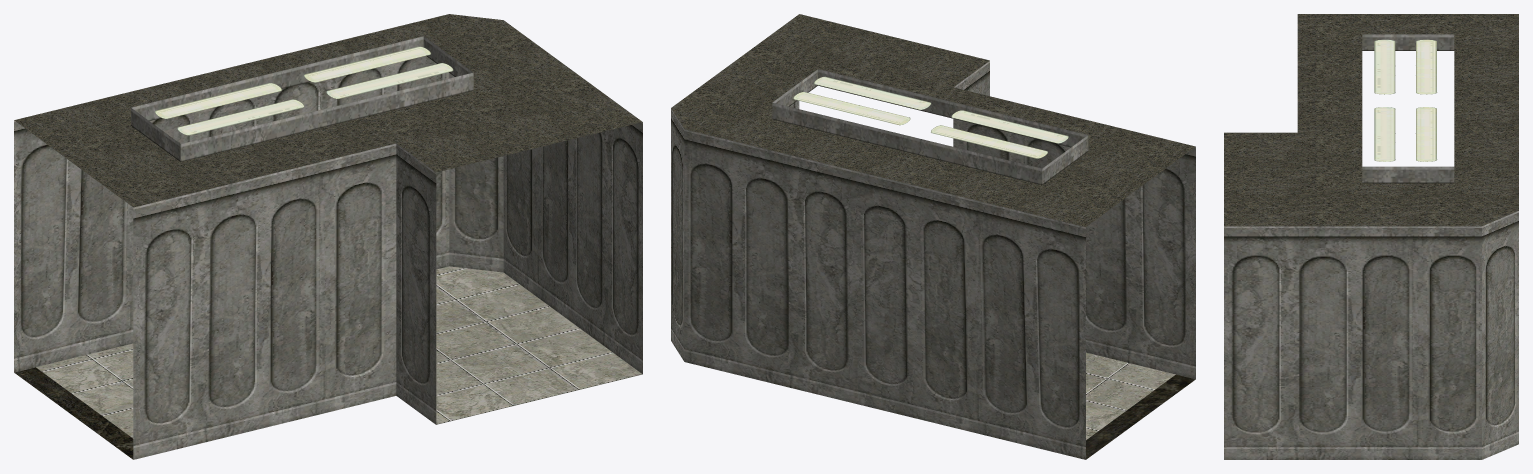
Rendered from mun_tato_guild_commerce_s01_r2_halla_mesh_halla.fbx.
3 views of the same model, side by side, from view 1: azimuth 30°, elevation 25°; view 2: azimuth 150°, elevation 25°; view 3: azimuth 270°, elevation 25° (orthographic). The views are drawn at different scales.
Parts seen in each view (by area): view 1: mesh_node; view 2: mesh_node; view 3: mesh_node.
Boxes of the visible parts, x1,y1,x2,y2 form: mesh_node: [14, 14, 642, 459]; mesh_node: [671, 14, 1195, 459]; mesh_node: [1224, 14, 1518, 459].
Bounding box in the file's own units: 6.82 × 3.75 × 4.
